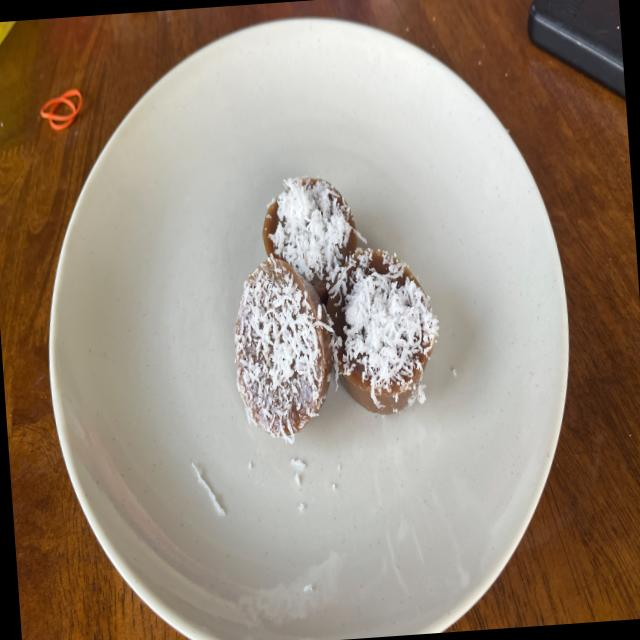Kuih lompang: (326, 247, 438, 414), (234, 254, 332, 442), (262, 176, 357, 302)
